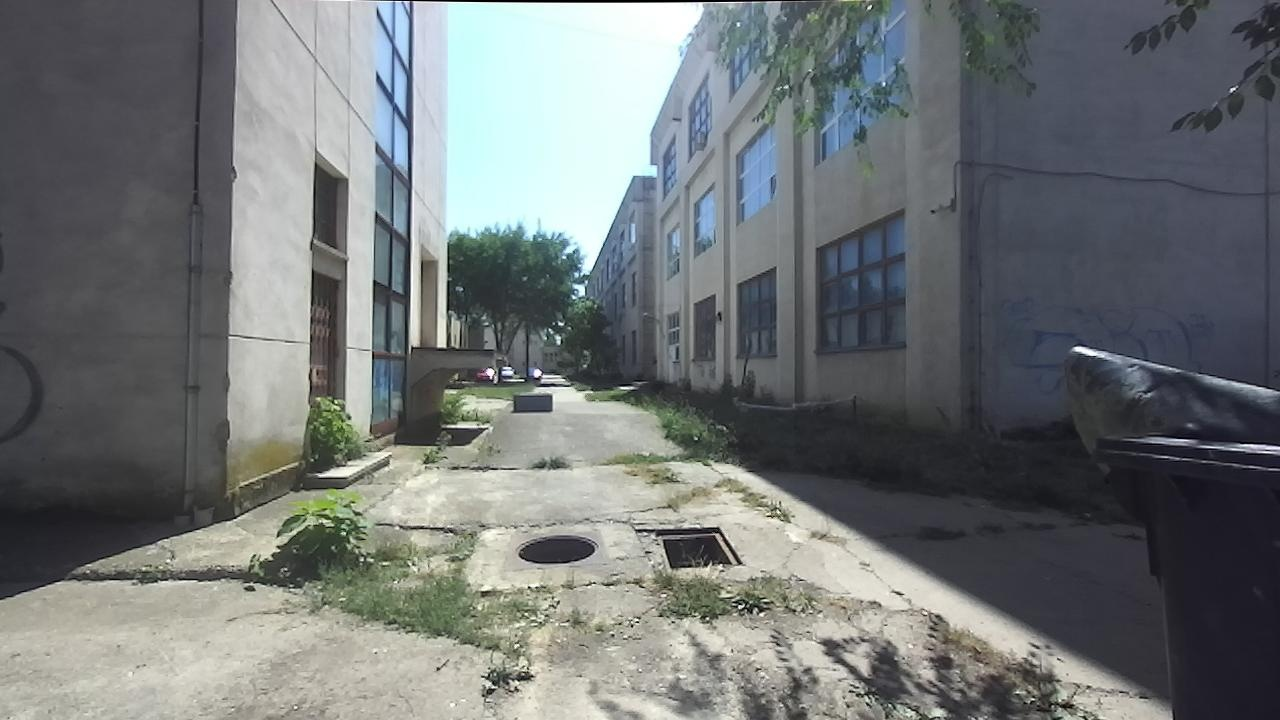drain: (650, 523, 748, 572), (509, 528, 604, 567)
